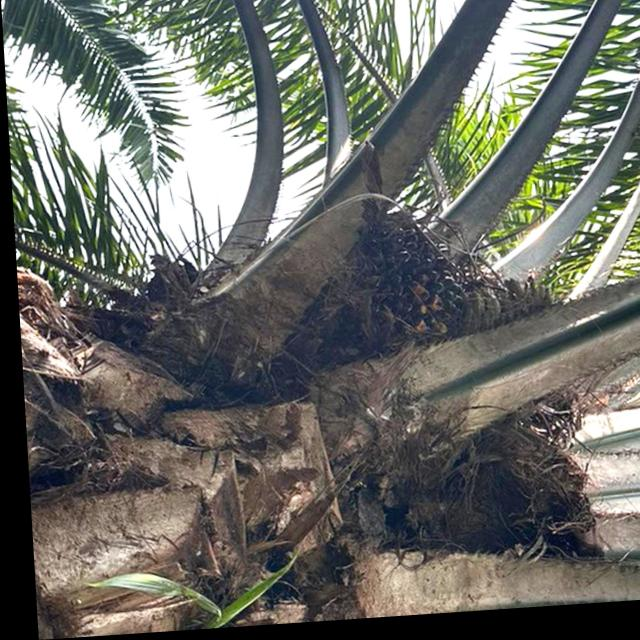almost: (340, 199, 469, 361)
